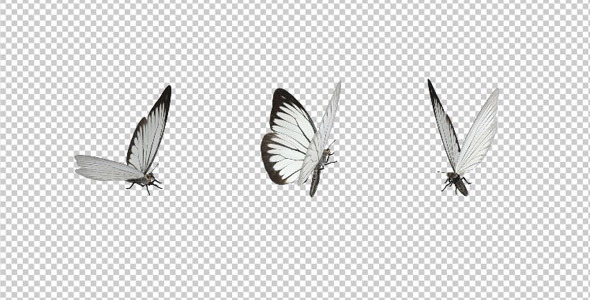insect: (73, 83, 171, 193), (261, 80, 341, 197), (426, 79, 499, 196)
